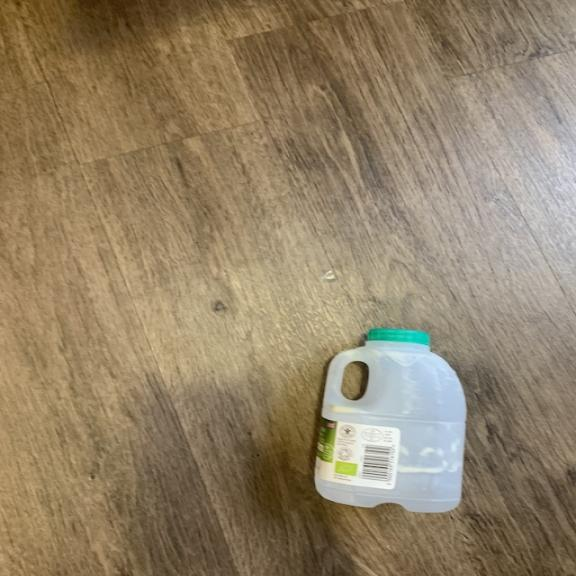Plastik: (311, 328, 474, 520)
